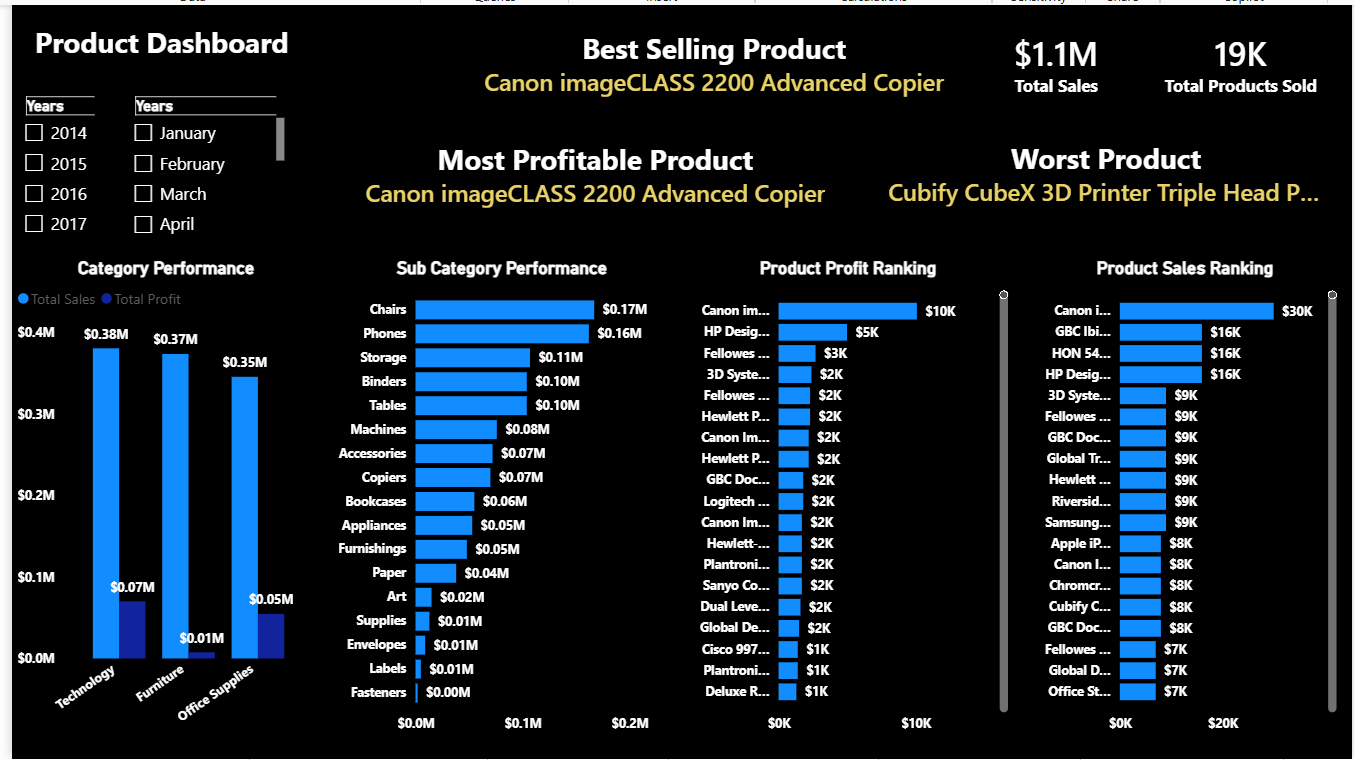

This screenshot's page, from the dashboard's own definition file:
{"tool":"powerbi","page":{"name":"5. Product Dashboard","canvas":[1280,720],"ordinal":4},"visuals":[{"type":"cardVisual","fields":{"Data":["KPI Metrics.Total Products Sold"]},"box":[1077,12.2,193.2,86.5],"z":0},{"type":"cardVisual","fields":{"Data":["KPI Metrics.Total Sales"]},"box":[918.9,12.2,158.1,86.5],"z":1000},{"type":"cardVisual","fields":{"Data":["KPI Metrics.Best Selling Product"]},"box":[421.6,12.2,497.3,86.5],"z":2000},{"type":"cardVisual","fields":{"Data":["KPI Metrics.Most Profitable Product"]},"box":[294.6,118.9,525.7,85.1],"z":3000},{"type":"cardVisual","fields":{"Data":["KPI Metrics.Worst Product"]},"box":[820.3,117.6,450,85.1],"z":4000},{"type":"barChart","title":"Product Sales Ranking","fields":{"Category":["Sample - Superstore.Product Name"],"Y":["KPI Metrics.Total Sales"]},"box":[970.3,241.9,300,463.5],"z":5000},{"type":"barChart","title":"Product Profit Ranking","fields":{"Category":["Sample - Superstore.Product Name"],"Y":["KPI Metrics.Total Profit"]},"box":[640.5,241.9,316.2,463.5],"z":6000},{"type":"clusteredColumnChart","title":"Category Performance","fields":{"Category":["Sample - Superstore.Category"],"Y":["KPI Metrics.Total Sales","KPI Metrics.Total Profit"]},"box":[0,241.9,294.6,463.5],"z":7000},{"type":"barChart","title":"Sub Category Performance","fields":{"Category":["Sample - Superstore.Sub Category"],"Y":["KPI Metrics.Total Sales"]},"box":[305.4,241.9,324.3,463.5],"z":8000},{"type":"slicer","fields":{"Values":["Sample - Superstore.Order Date.Variation.Date Hierarchy.Year"]},"box":[0,82.4,91.9,150],"z":9000},{"type":"slicer","fields":{"Values":["Sample - Superstore.Order Date.Variation.Date Hierarchy.Month"]},"box":[104.1,82.4,160.8,150],"z":10000},{"type":"textbox","box":[17.6,12.2,300,58.1],"z":11000}]}

Visuals, with their boxes in screenshot pixels (x1, y1, x2, y2), scaled from the page's 1280x720 canvas onto the 1354x760 screenshot:
cardVisual - KPI Metrics.Total Products Sold: x1=1139 y1=13 x2=1344 y2=104
cardVisual - KPI Metrics.Total Sales: x1=972 y1=13 x2=1139 y2=104
cardVisual - KPI Metrics.Best Selling Product: x1=446 y1=13 x2=972 y2=104
cardVisual - KPI Metrics.Most Profitable Product: x1=312 y1=126 x2=868 y2=215
cardVisual - KPI Metrics.Worst Product: x1=868 y1=124 x2=1344 y2=214
"Product Sales Ranking" barChart: x1=1026 y1=255 x2=1344 y2=745
"Product Profit Ranking" barChart: x1=678 y1=255 x2=1012 y2=745
"Category Performance" clusteredColumnChart: x1=0 y1=255 x2=312 y2=745
"Sub Category Performance" barChart: x1=323 y1=255 x2=666 y2=745
slicer - Sample - Superstore.Order Date.Variation.Date Hierarchy.Year: x1=0 y1=87 x2=97 y2=245
slicer - Sample - Superstore.Order Date.Variation.Date Hierarchy.Month: x1=110 y1=87 x2=280 y2=245
textbox: x1=19 y1=13 x2=336 y2=74
